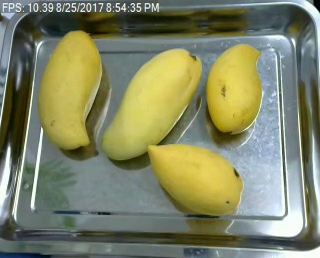Mango: (102, 45, 202, 163), (35, 30, 103, 152), (143, 144, 242, 216), (203, 42, 262, 134)
